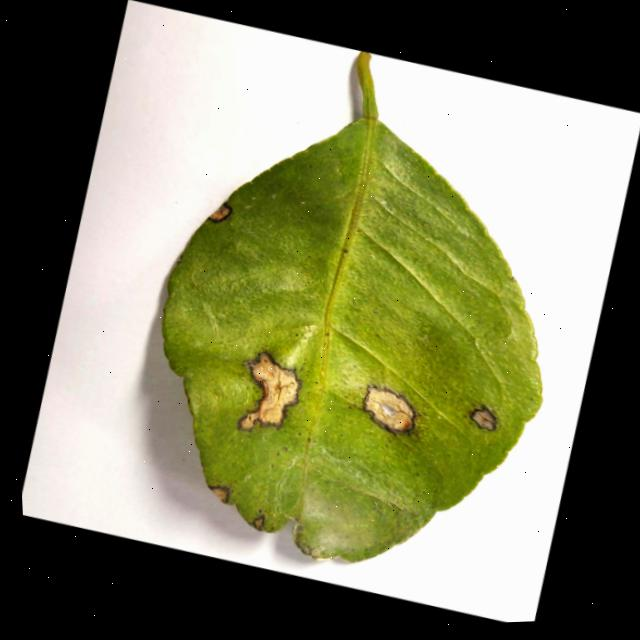antracnose: (162, 53, 540, 561), (237, 352, 300, 430), (363, 386, 414, 432), (469, 407, 495, 430), (207, 203, 231, 222), (208, 485, 229, 503), (253, 514, 264, 529)
